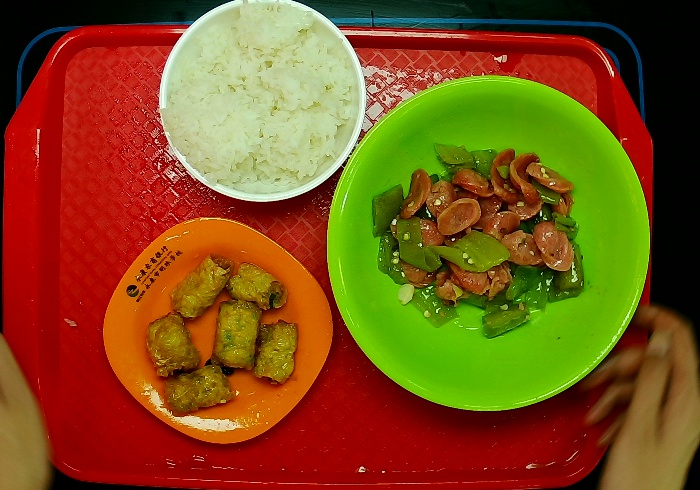YKMZ-Fan_Wan: (159, 1, 366, 203)
YKMZ-Ju_Se_Fang_Die: (101, 214, 335, 444)
YKMZ-Lv_Se_Tang_Wan: (324, 71, 649, 413)
